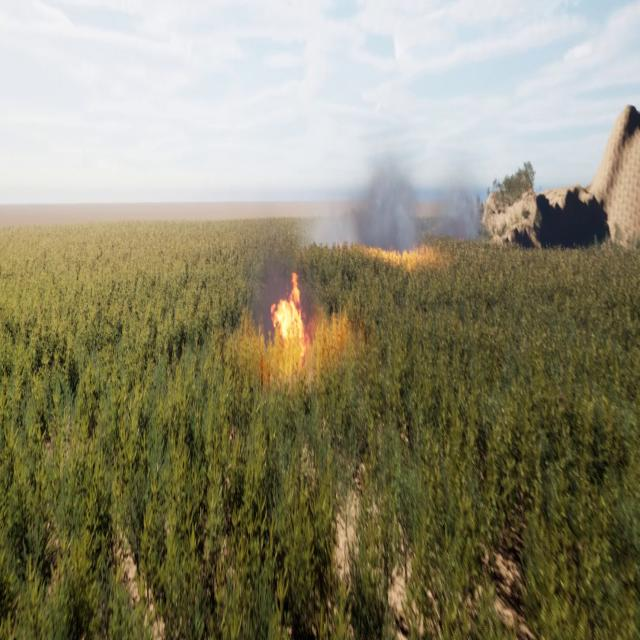fire: (272, 268, 310, 334), (360, 242, 440, 265)
smoke: (313, 148, 423, 236), (248, 240, 311, 330), (434, 143, 487, 243)
